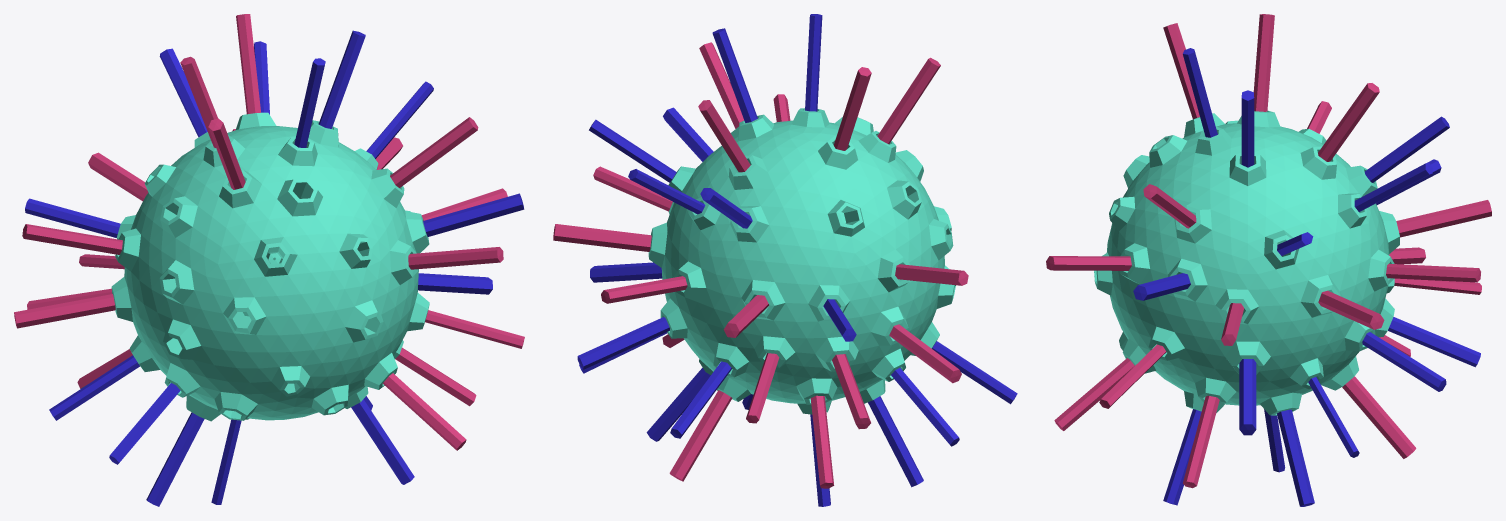
The model's file is Planet_Unknown_Low_Poly.fbx.
3 renders of one model, left to right at view 1: azimuth 30°, elevation 25°; view 2: azimuth 150°, elevation 25°; view 3: azimuth 270°, elevation 25°, orthographic. The views are drawn at different scales.
Parts seen in each view (by area): view 1: Icosphere; view 2: Icosphere; view 3: Icosphere.
Boxes of the visible parts, bbox=[...] form: Icosphere: bbox=[14, 14, 524, 506]; Icosphere: bbox=[553, 14, 1017, 506]; Icosphere: bbox=[1046, 14, 1491, 506].
Size of the model in its own units: 340 by 346 by 314.
